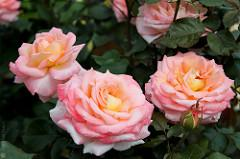Rose: (54, 67, 154, 156), (143, 51, 240, 128), (9, 26, 85, 101), (134, 1, 212, 48)
